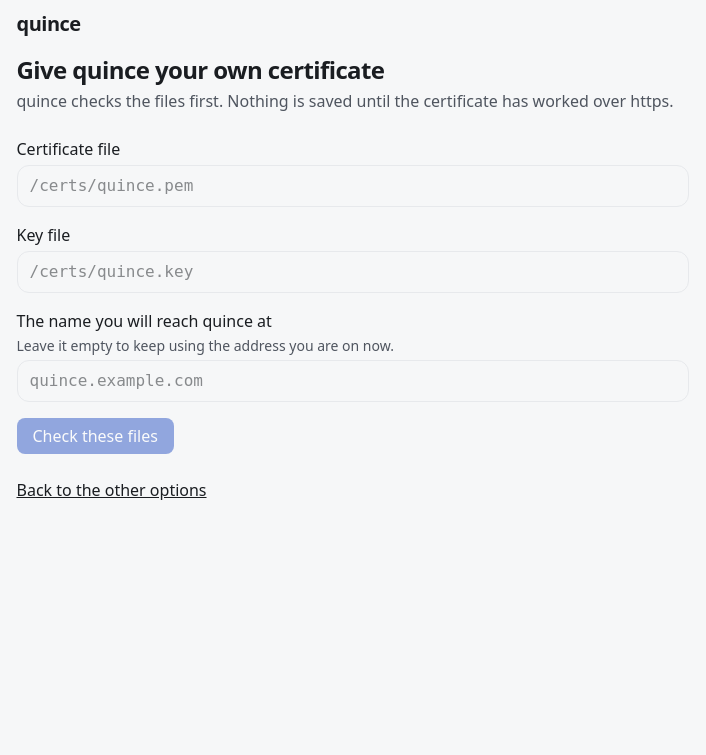
Test case: the certificate step › clears the verdict when a field changes
The width and height of the screenshot is (706, 755).
Type "/tls/fullchain.pem" into the field labelled "Certificate file".
click(352, 186); type("/tls/fullchain.pem")  # box [16, 165, 688, 207]
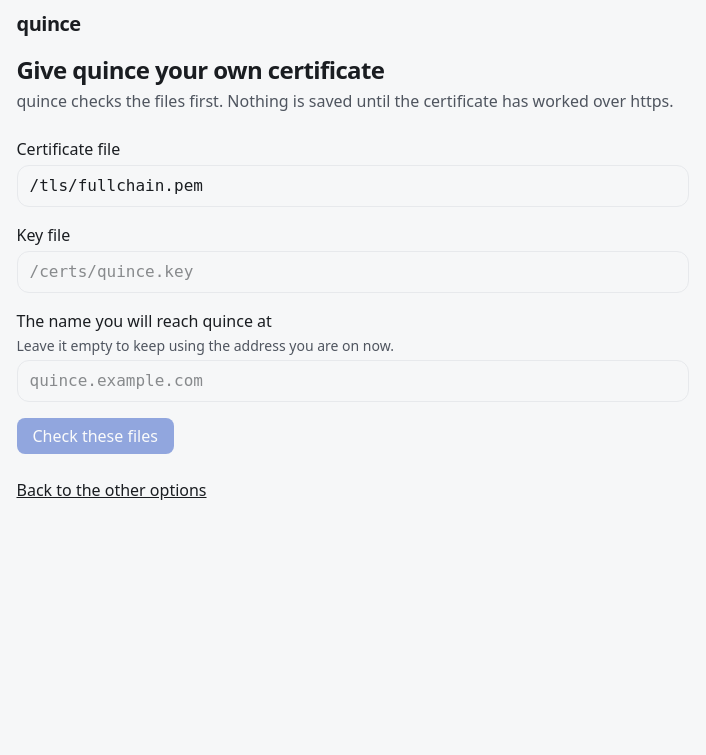
Type "/tls/privkey.pem" into the field labelled "Key file".
click(352, 272); type("/tls/privkey.pem")  # box [16, 251, 688, 293]
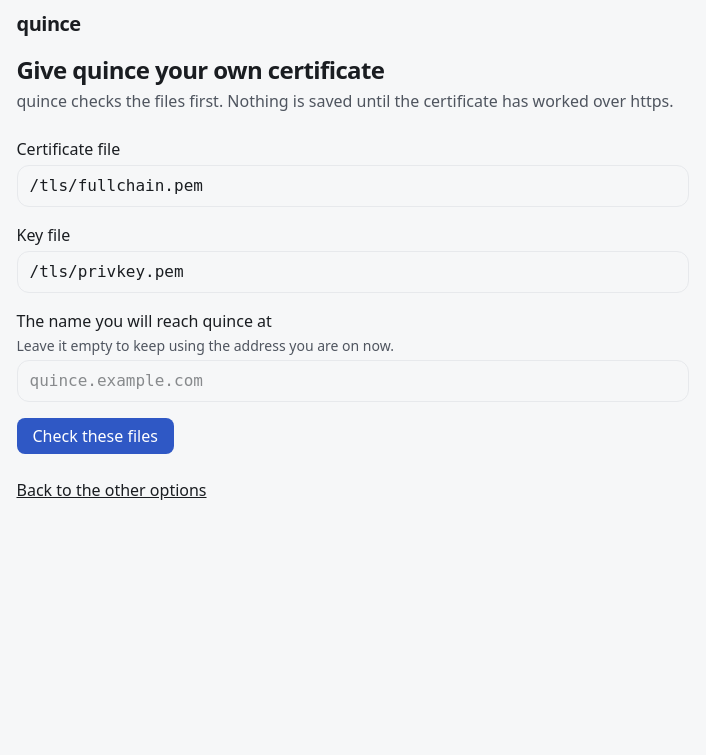
Click the button "Check these files".
click(95, 436)  # box [16, 418, 174, 454]
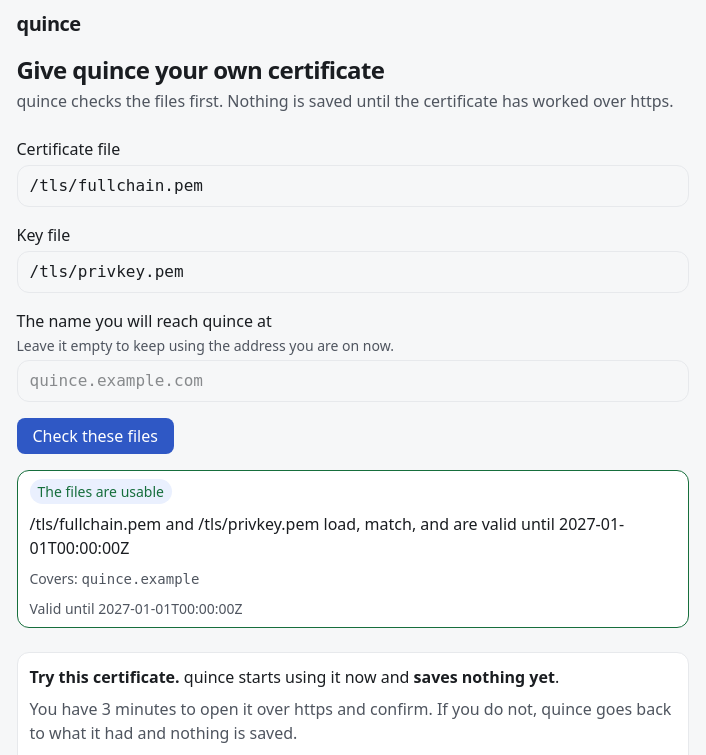
Expected: the text "The files are usable" is shown, [30, 479, 172, 504]
Replace the text in the field labelled "Certificate file" with "/other.pem" at (352, 186), box [16, 165, 688, 207]
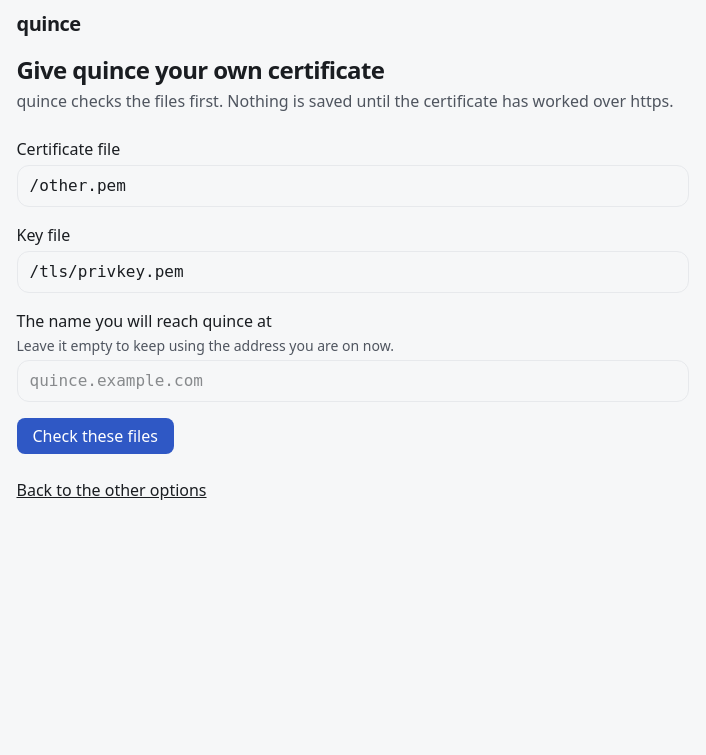
Expected: the text "The files are usable" is gone
